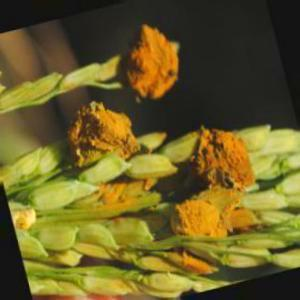Leaf_Scald: (123, 24, 180, 92), (65, 105, 126, 163), (192, 137, 248, 194), (170, 201, 246, 237), (182, 257, 216, 284)
